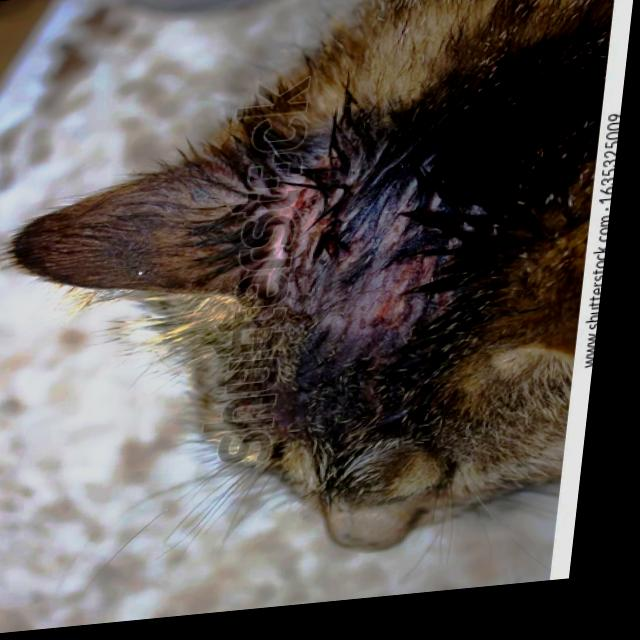ringworm: (284, 153, 438, 334)
